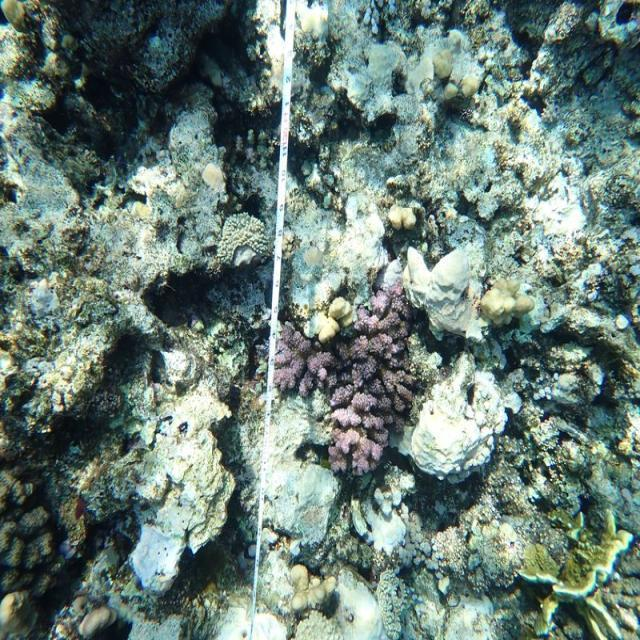Bleached Coral: (400, 352, 514, 499), (264, 418, 346, 554), (413, 512, 555, 586), (296, 211, 396, 301), (122, 503, 192, 598), (212, 202, 280, 278), (524, 170, 582, 254)
Healthy Coral: (256, 284, 402, 432)
